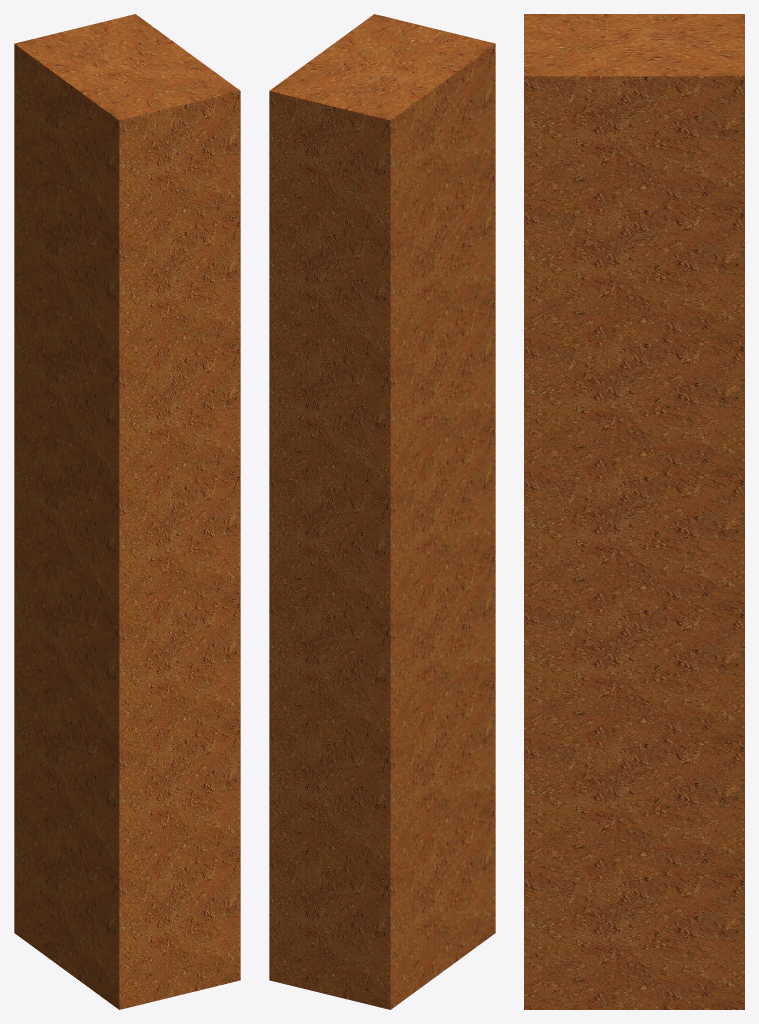
Rendered from Wall-1.fbx.
The picture shows the model from 3 angles, left to right: view 1: azimuth 30°, elevation 25°; view 2: azimuth 150°, elevation 25°; view 3: azimuth 270°, elevation 25°; orthographic projection. The views are drawn at different scales.
Parts seen in each view (by area): view 1: Unit_Block22, Unit_Block17, Unit_Block16, Unit_Block19, Unit_Block21, Unit_Block18, Unit_Block20; view 2: Unit_Block22, Unit_Block17, Unit_Block16, Unit_Block19, Unit_Block21, Unit_Block18, Unit_Block20; view 3: Unit_Block22, Unit_Block18, Unit_Block16, Unit_Block17, Unit_Block19, Unit_Block20, Unit_Block21.
Part boxes in pixels (bbox=[...]): Unit_Block22: bbox=[14, 14, 240, 247]; Unit_Block17: bbox=[14, 679, 240, 882]; Unit_Block16: bbox=[14, 806, 240, 1009]; Unit_Block19: bbox=[14, 425, 240, 628]; Unit_Block21: bbox=[14, 171, 240, 374]; Unit_Block18: bbox=[14, 552, 240, 755]; Unit_Block20: bbox=[14, 298, 240, 501]; Unit_Block22: bbox=[269, 14, 495, 247]; Unit_Block17: bbox=[269, 679, 495, 882]; Unit_Block16: bbox=[269, 806, 495, 1009]; Unit_Block19: bbox=[269, 425, 495, 628]; Unit_Block21: bbox=[269, 171, 495, 374]; Unit_Block18: bbox=[269, 552, 495, 755]; Unit_Block20: bbox=[269, 298, 495, 501]; Unit_Block22: bbox=[524, 14, 744, 209]; Unit_Block18: bbox=[524, 609, 744, 743]; Unit_Block16: bbox=[524, 876, 744, 1009]; Unit_Block17: bbox=[524, 743, 744, 876]; Unit_Block19: bbox=[524, 476, 744, 609]; Unit_Block20: bbox=[524, 343, 744, 476]; Unit_Block21: bbox=[524, 209, 744, 342].
Bounding box in the file's own units: 2 × 14 × 3.
